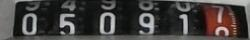digits: (17, 13, 41, 37), (97, 12, 119, 36), (57, 12, 77, 38), (135, 13, 156, 36), (175, 14, 195, 36), (208, 4, 226, 25)
